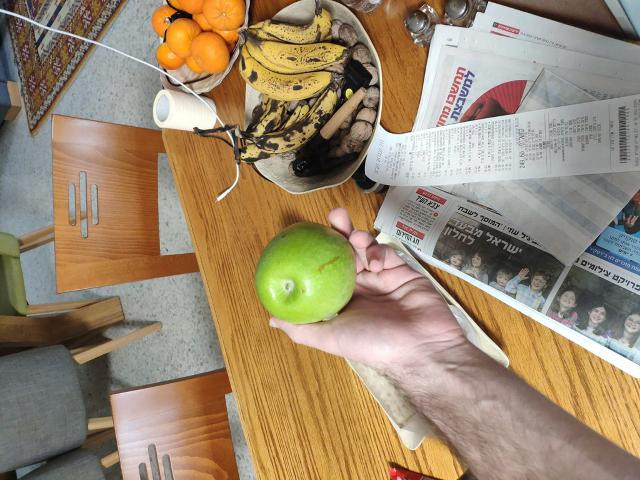apple: (253, 225, 362, 322)
